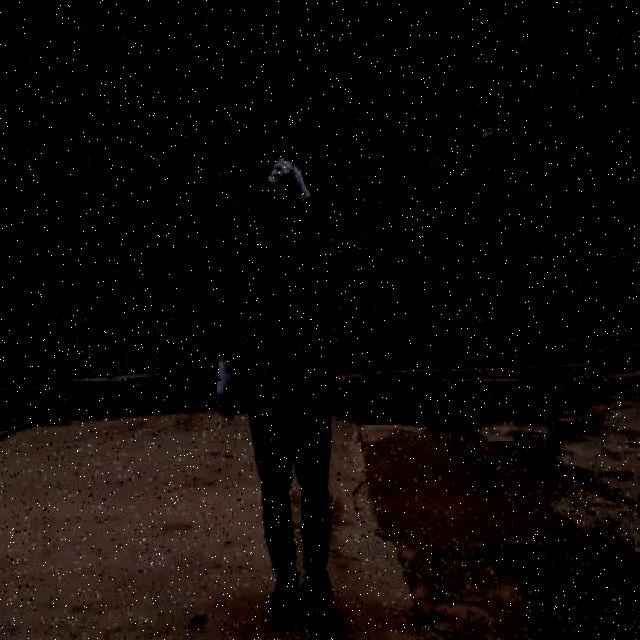Boots: (299, 567, 339, 635), (266, 561, 300, 634)
Gloves: (264, 154, 312, 212), (213, 354, 239, 422)
Mask: (233, 242, 342, 350)
